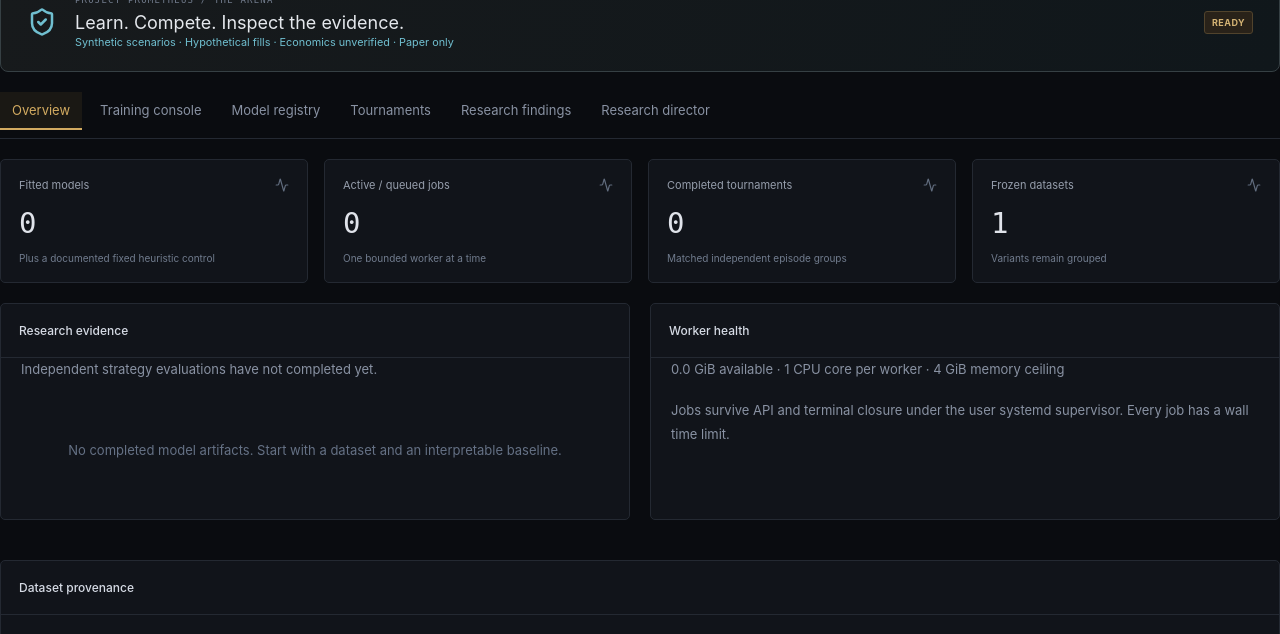
it: submits an explicit PPO parent without replacing its evidence
The width and height of the screenshot is (1280, 634).
Step 1. Click the tab "Training console" → click(151, 111), box [88,92,214,130]
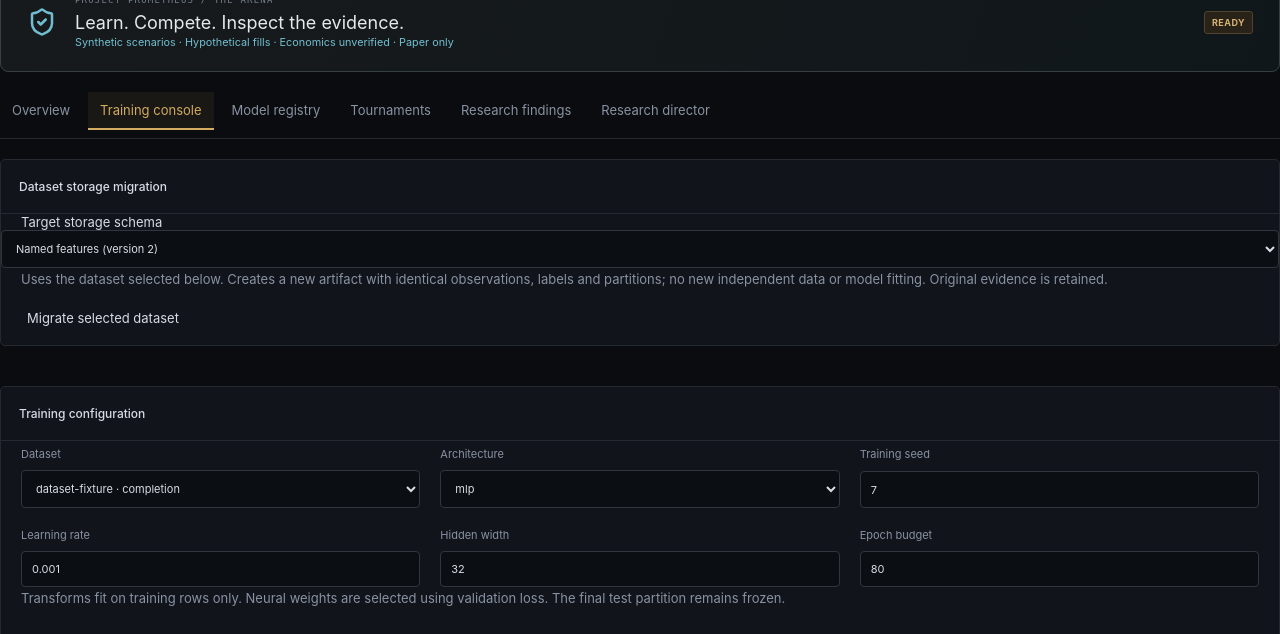
Step 2. Select "ppo" in the dropdown labelled "Architecture" → (640, 489), box [440,470,840,508]
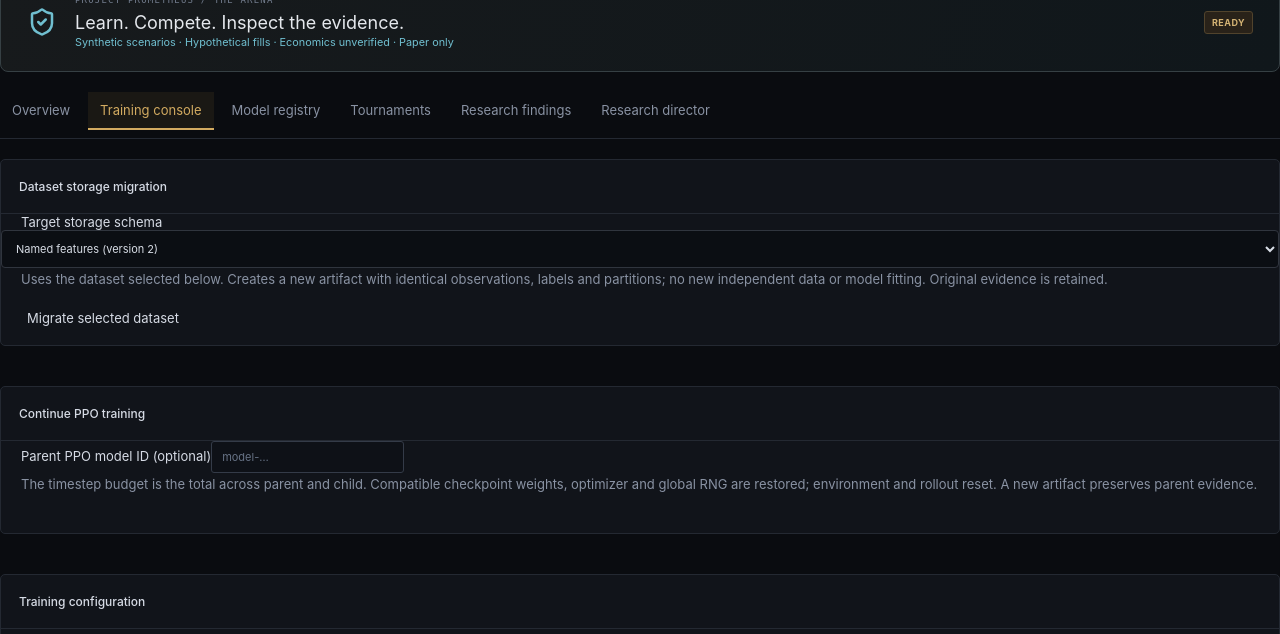
Step 3. Type "model-parent" into the field labelled "Parent PPO model ID (optional)" → (308, 457), box [211,441,404,473]
(page scrolled)
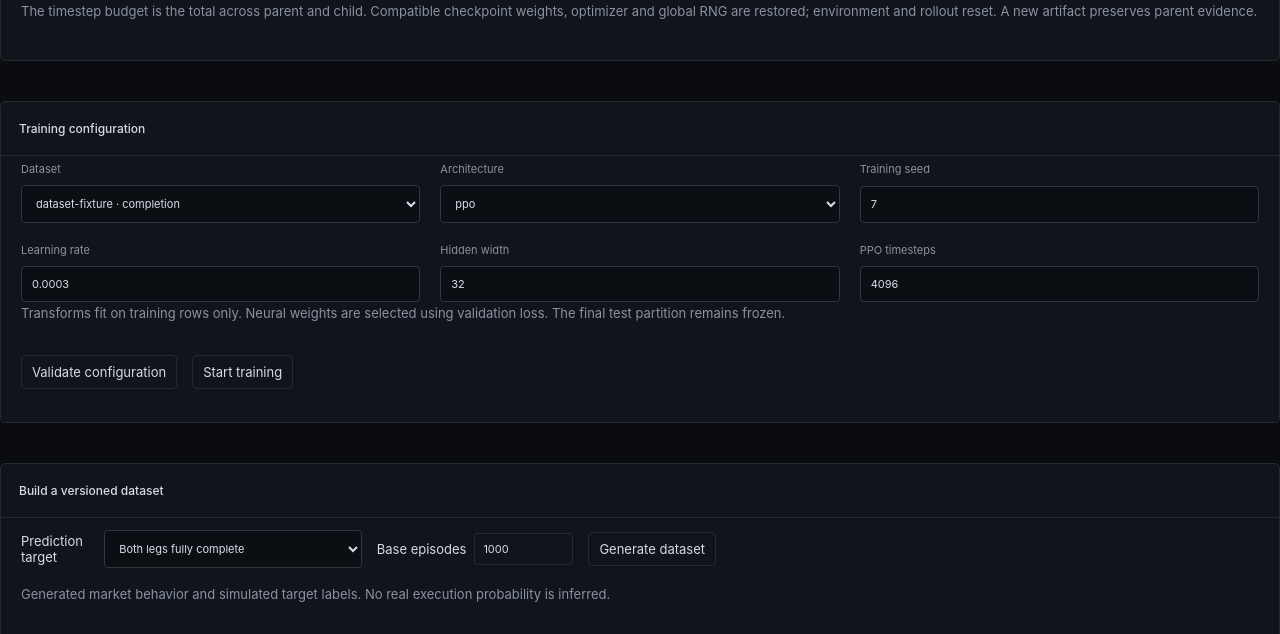
Now the text "environment and rollout reset" is shown, box [21,3,1257,19]
Step 4. Click the button "Start training" → click(243, 372), box [192,355,293,389]
(page scrolled)
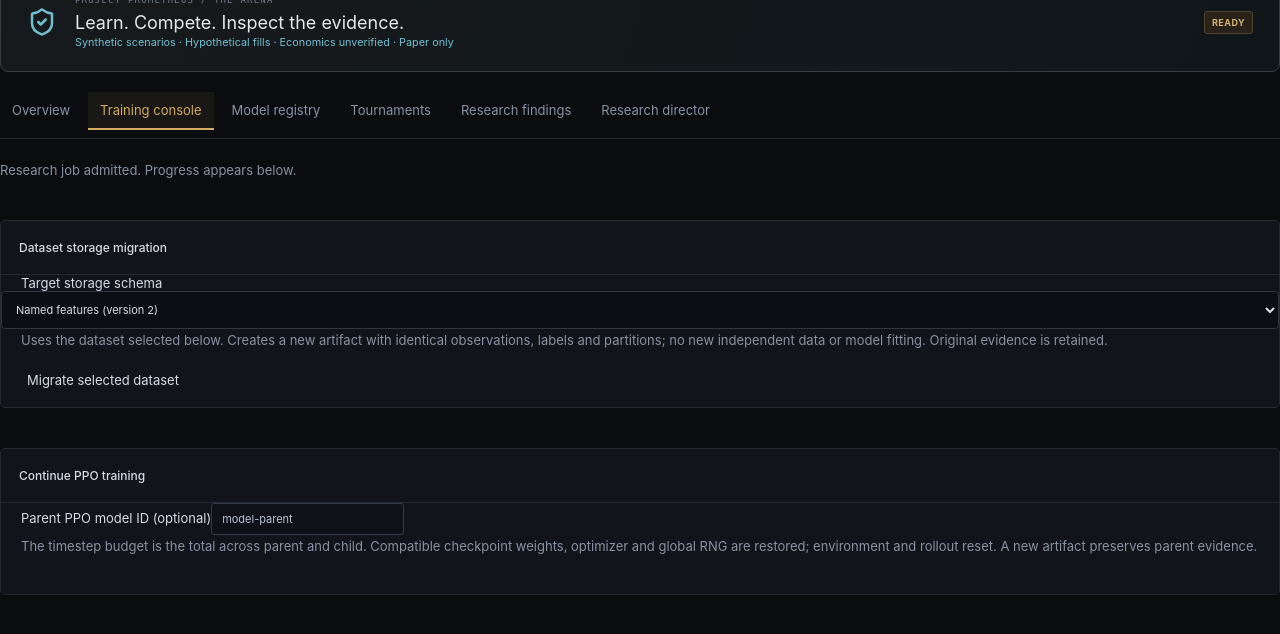
Now the text "Research job admitted. Progress appears below." is shown, box [0,162,296,178]
